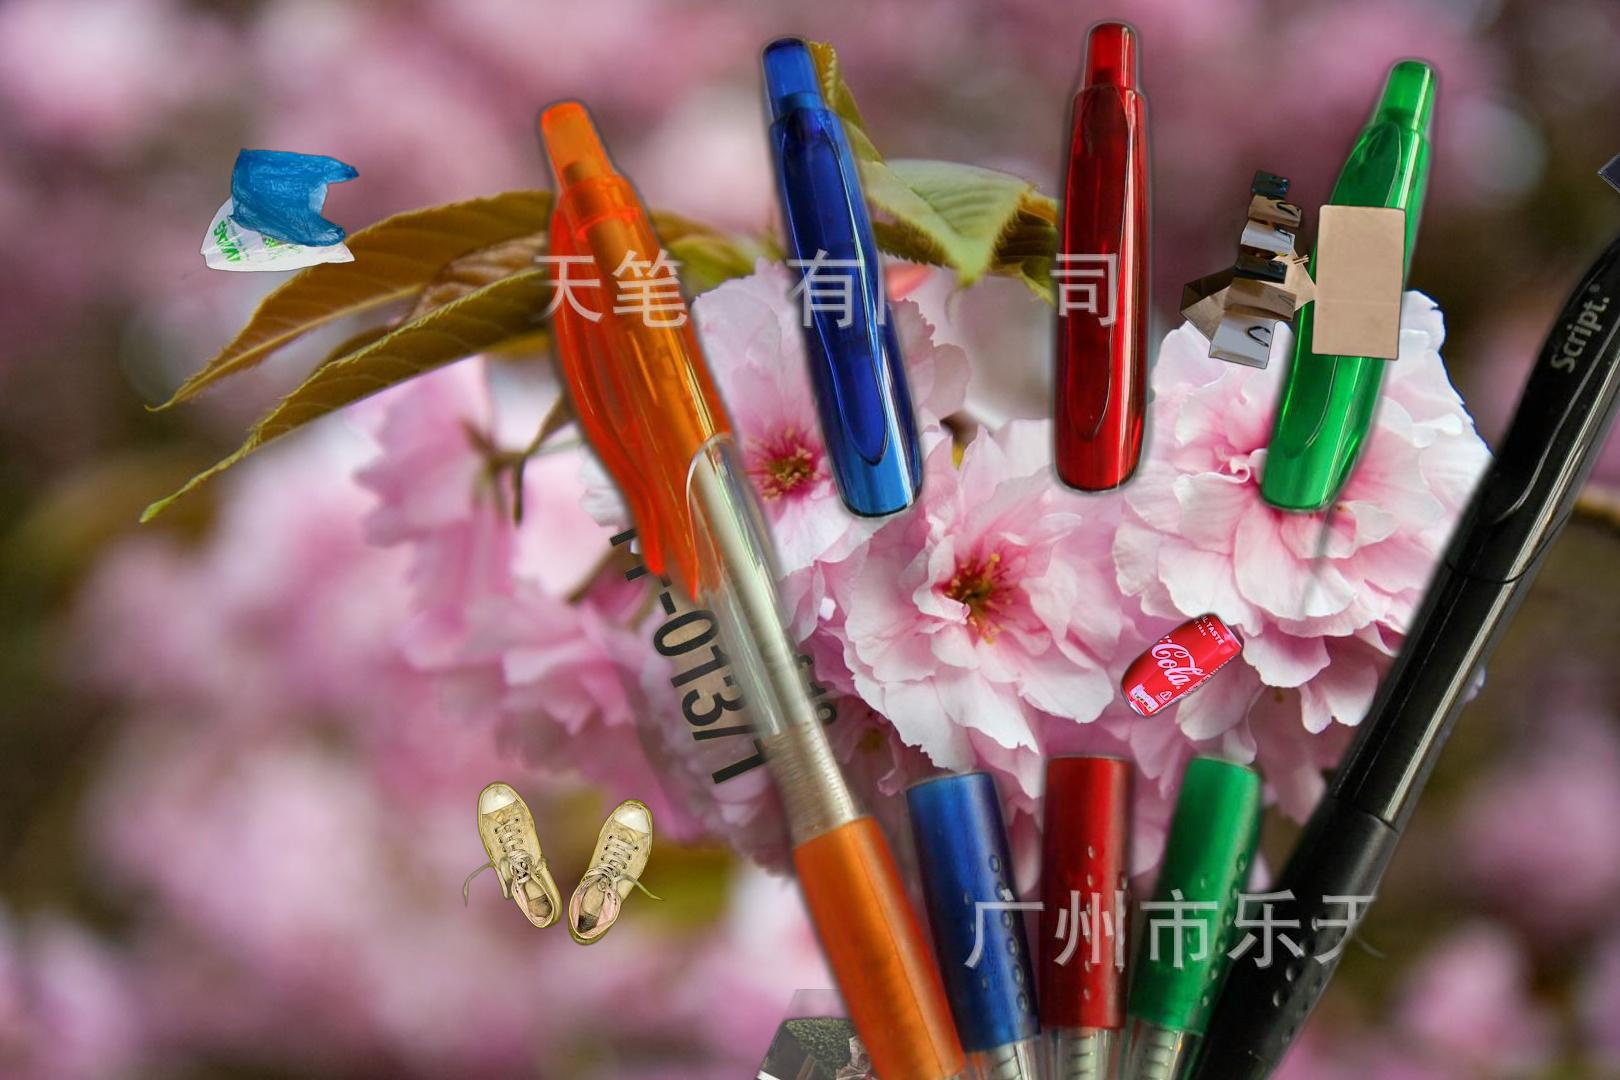battery: (1593, 14, 1620, 227)
metal-cans: (1116, 607, 1248, 724)
paper: (667, 990, 1108, 1080)
paper-bag: (1178, 168, 1409, 372)
penholder: (481, 8, 1620, 1080)
plastic-bag: (177, 145, 362, 283)
shoes: (460, 779, 667, 947)
trashbox-cardboard: (570, 465, 946, 849)
